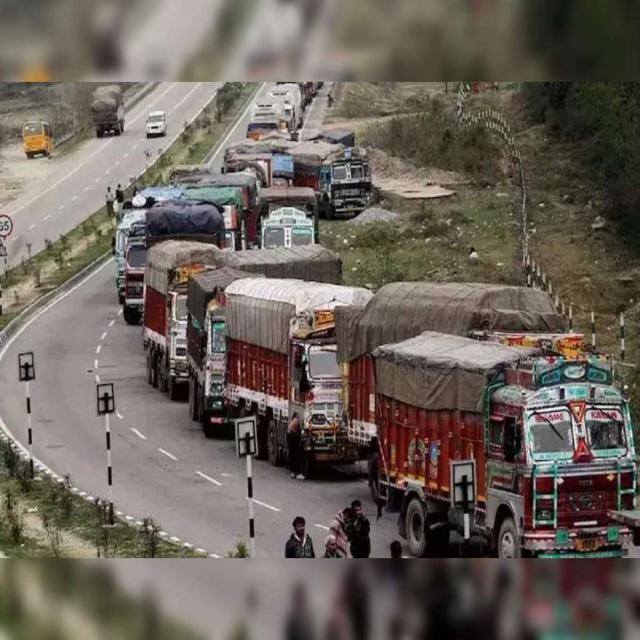truck: (368, 330, 638, 557), (225, 277, 371, 464)
